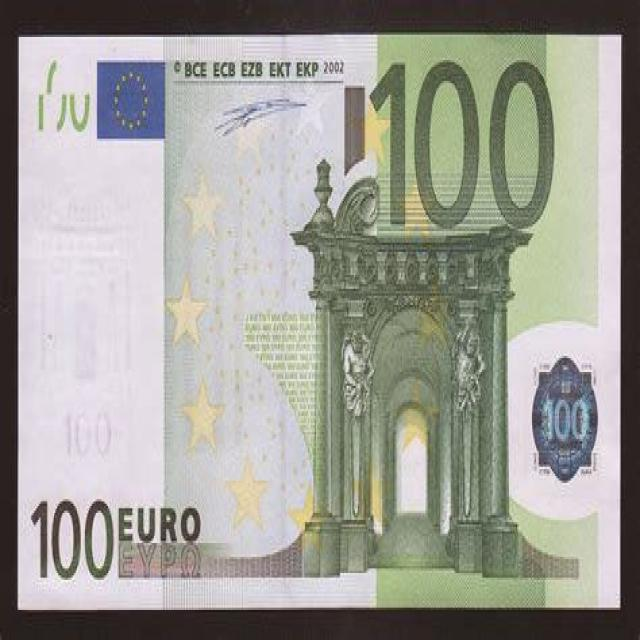banknote: (16, 33, 624, 612), (366, 51, 572, 232), (27, 489, 116, 592), (31, 54, 93, 136), (59, 401, 119, 470), (539, 393, 592, 448)
